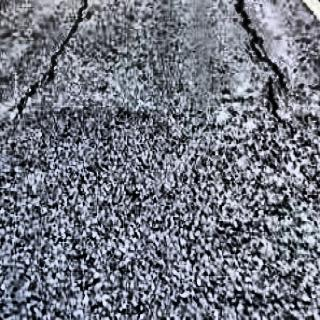crack: (15, 4, 99, 112), (228, 3, 298, 121)
